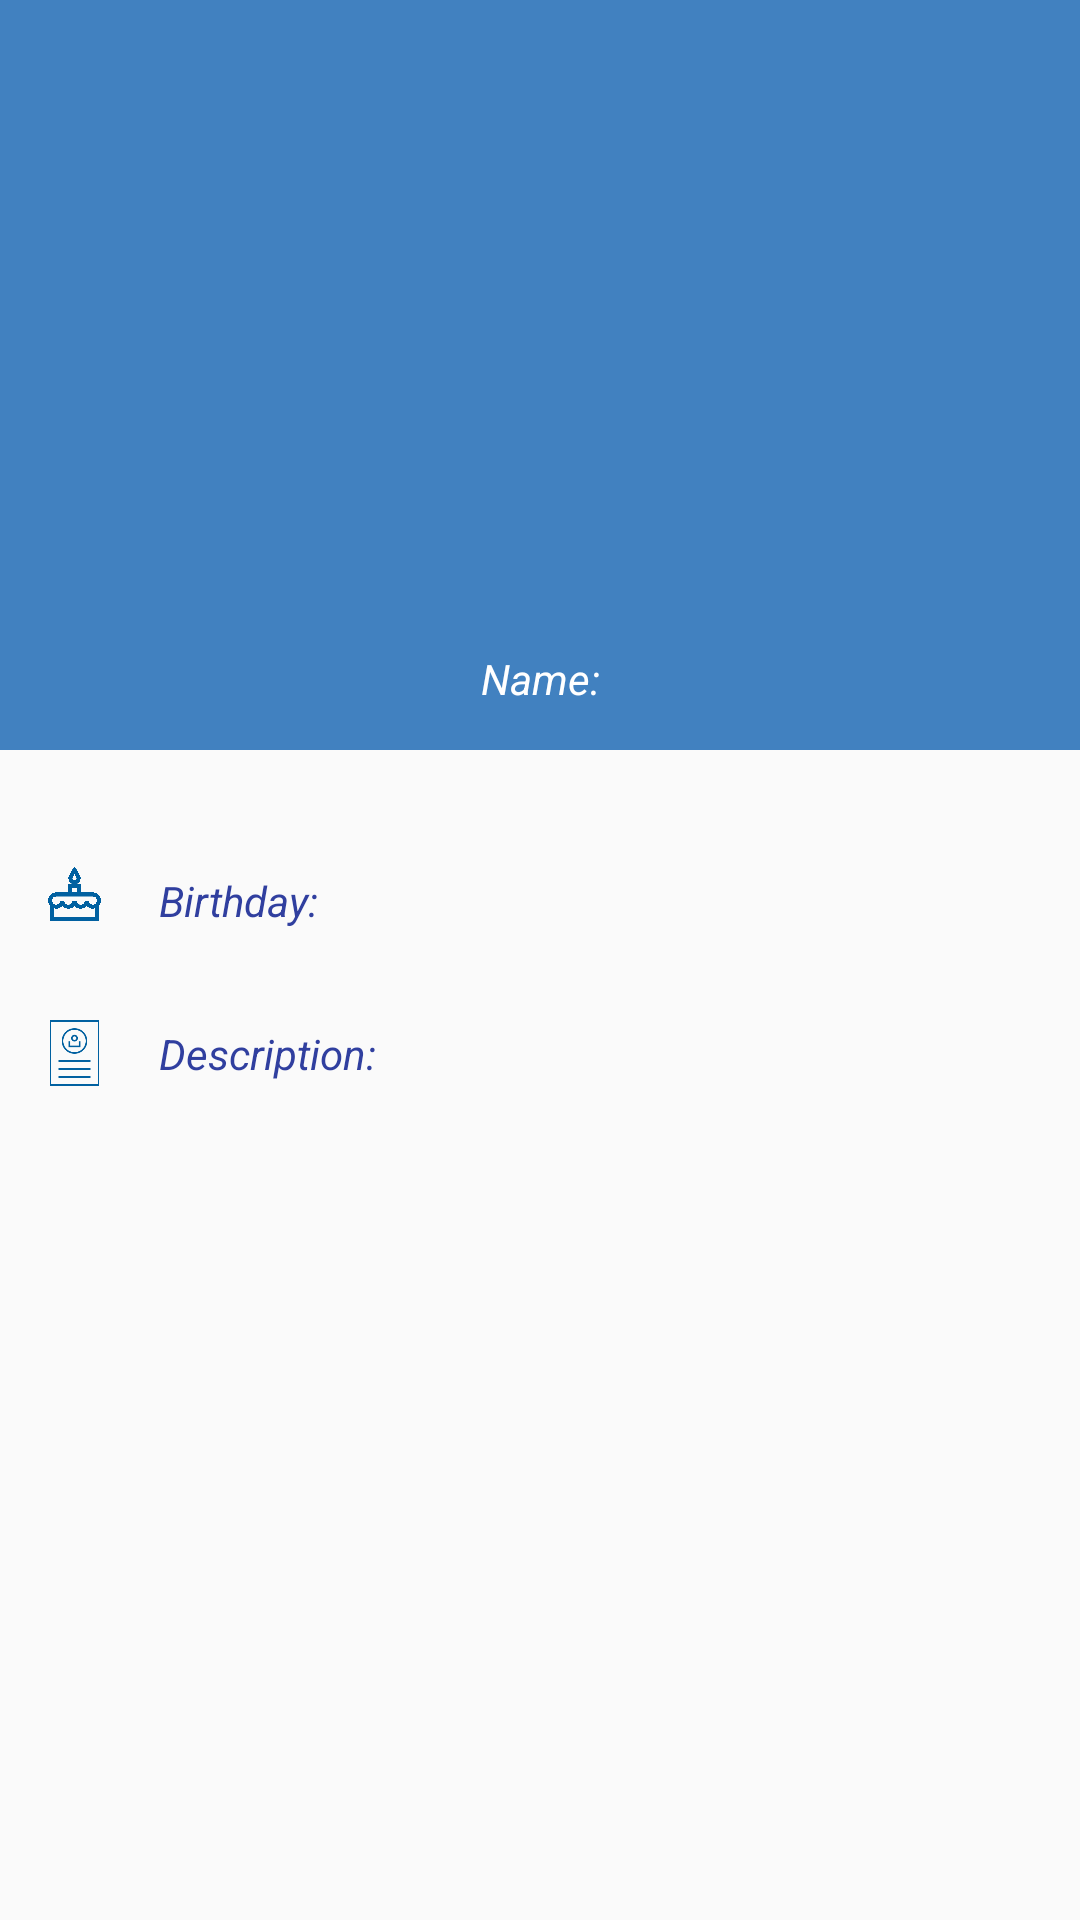

Named icons in this screenshot (1080×1920) and their bounding boxes, (left=x1, top=y1, right=x2, bottom=y2):
bio: (left=50, top=1020, right=99, bottom=1086)
